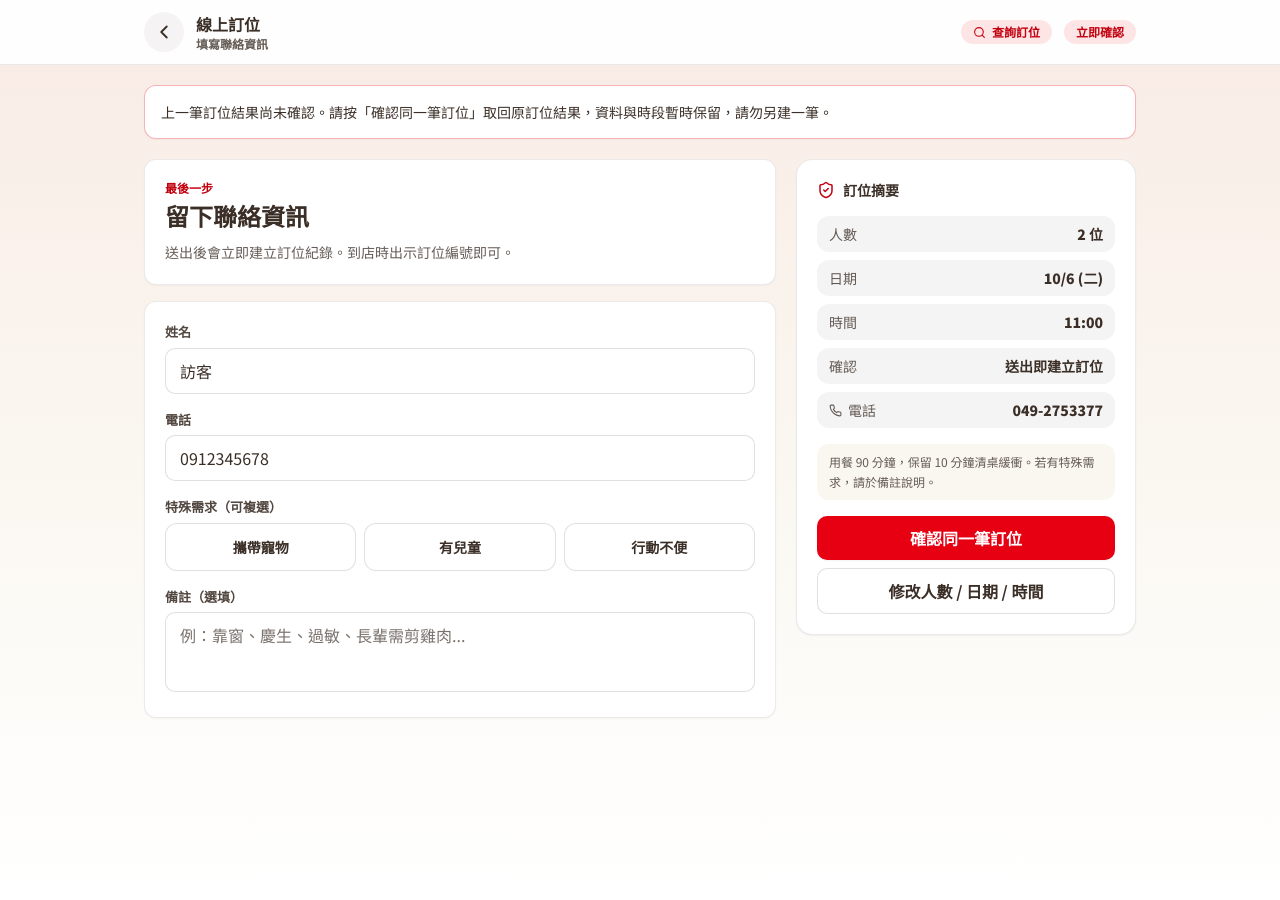
Test: mounted guest booking recovery › server-confirmed pre-write rejection unlocks editing but preserves the key until intent changes
This screenshot has width=1280, height=900.
Click the button "確認同一筆訂位" at (966, 538), box [817,516,1115,560]
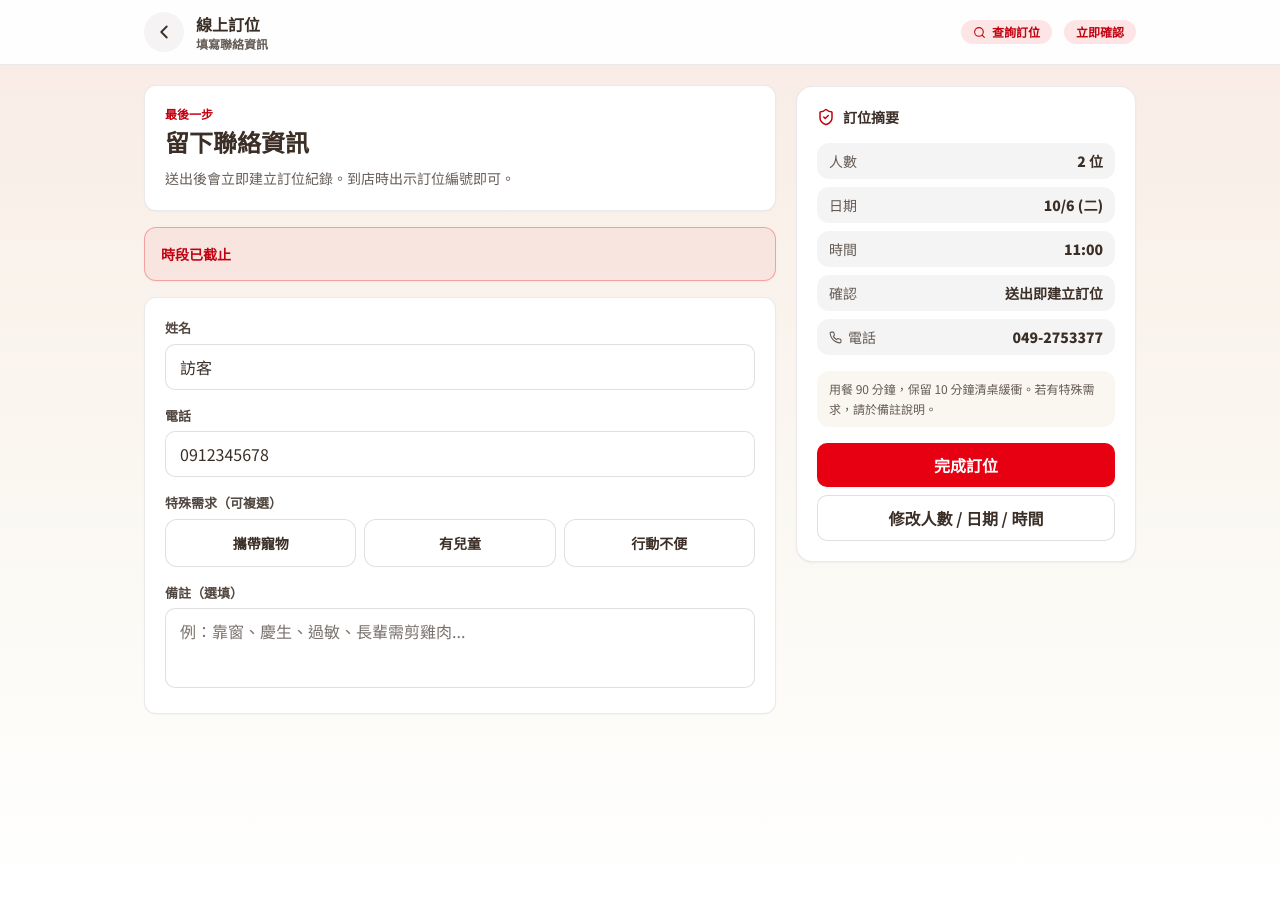
Expected: the field labelled "姓名" is enabled, [165,344,755,390]
